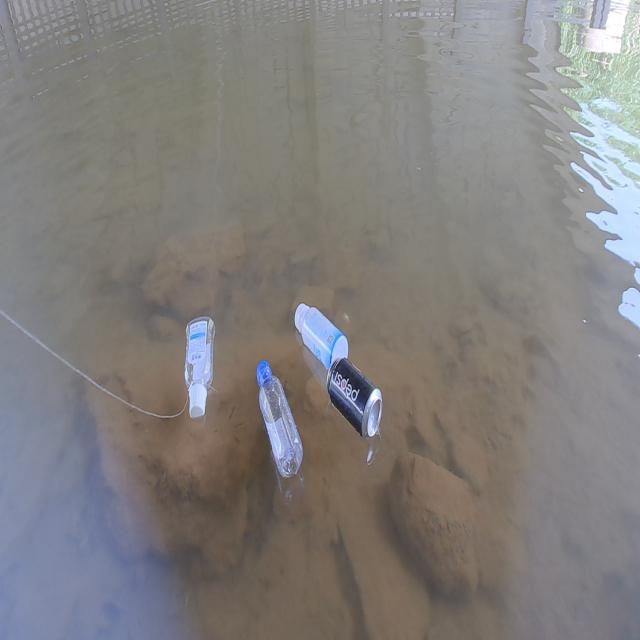Bottle: (254, 355, 303, 482), (292, 299, 348, 366), (182, 314, 214, 421)
Can: (324, 359, 386, 442)
